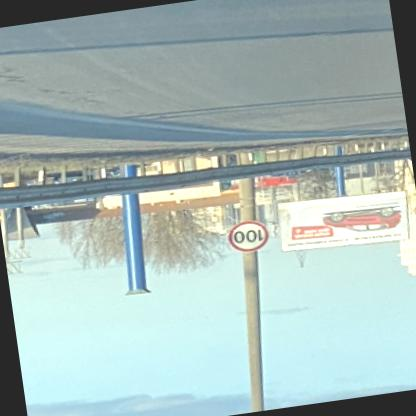speedlimit: (226, 221, 274, 256)
